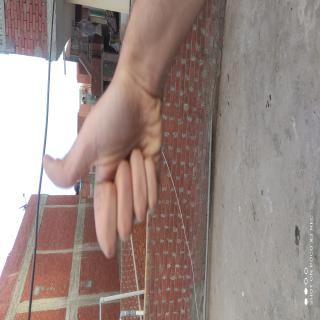ALIF: (26, 83, 117, 320)
